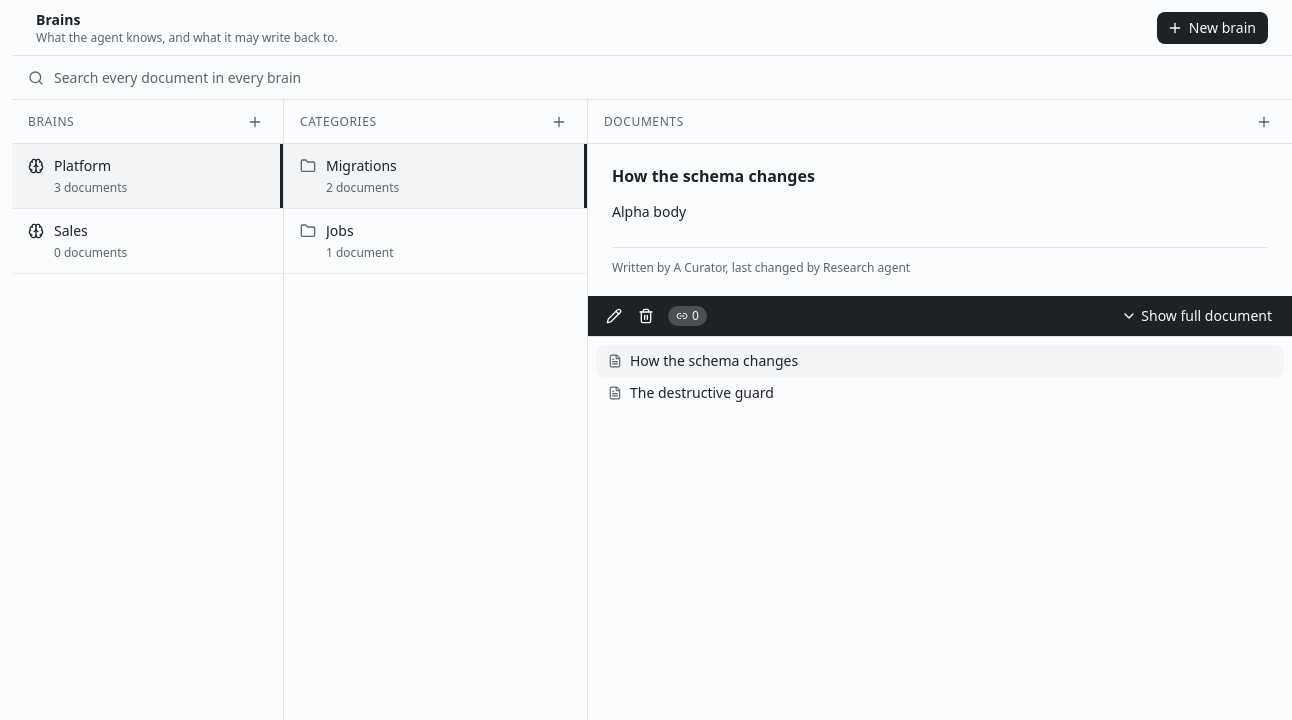
the brains screen › puts the whole knowledge base back when the search is cleared
The width and height of the screenshot is (1292, 720).
expect the text "Alpha body" is shown: met, box x1=612 y1=202 x2=686 y2=221
Type "ownership" into the field with placeholder "Search every document in every brain" at {"x": 665, "y": 78}, box x1=54 y1=56 x2=1276 y2=99
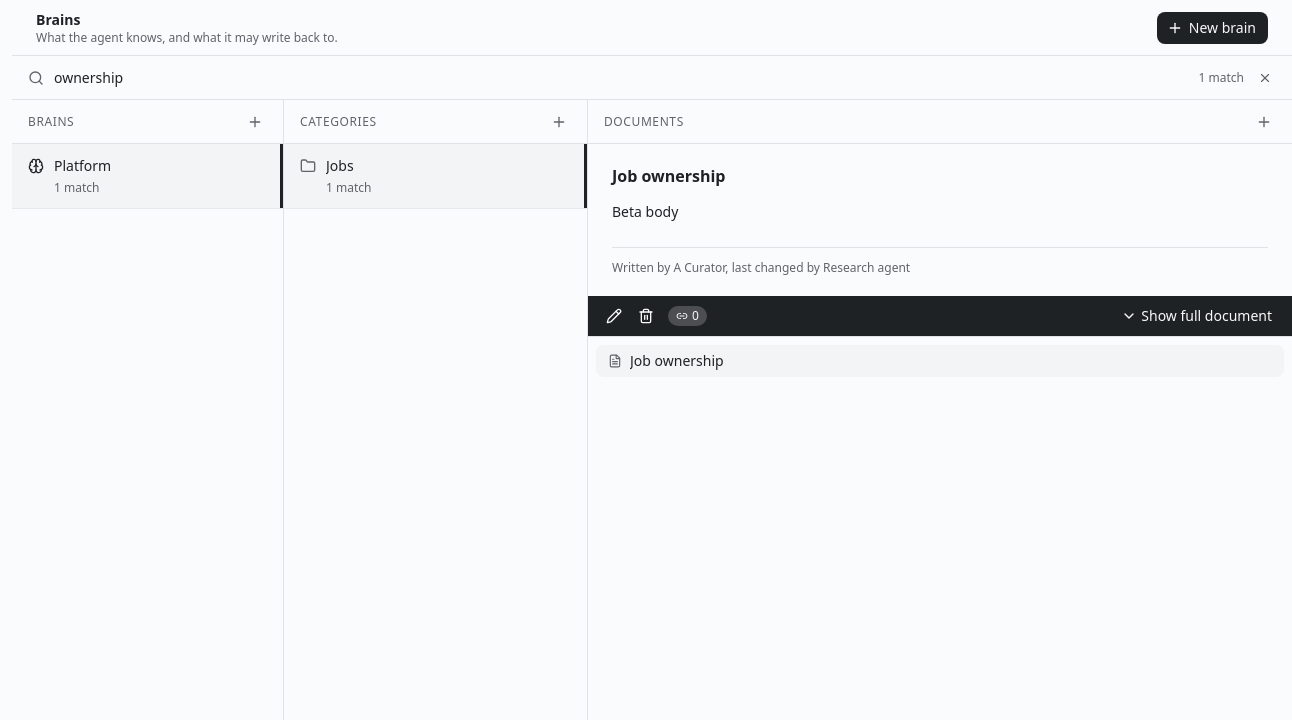
expect the text "Beta body" is shown: met, box x1=612 y1=202 x2=678 y2=221
expect the button "Sales" is gone: met
Click the button named "Clear search" at {"x": 1265, "y": 78}, box x1=1254 y1=66 x2=1276 y2=88
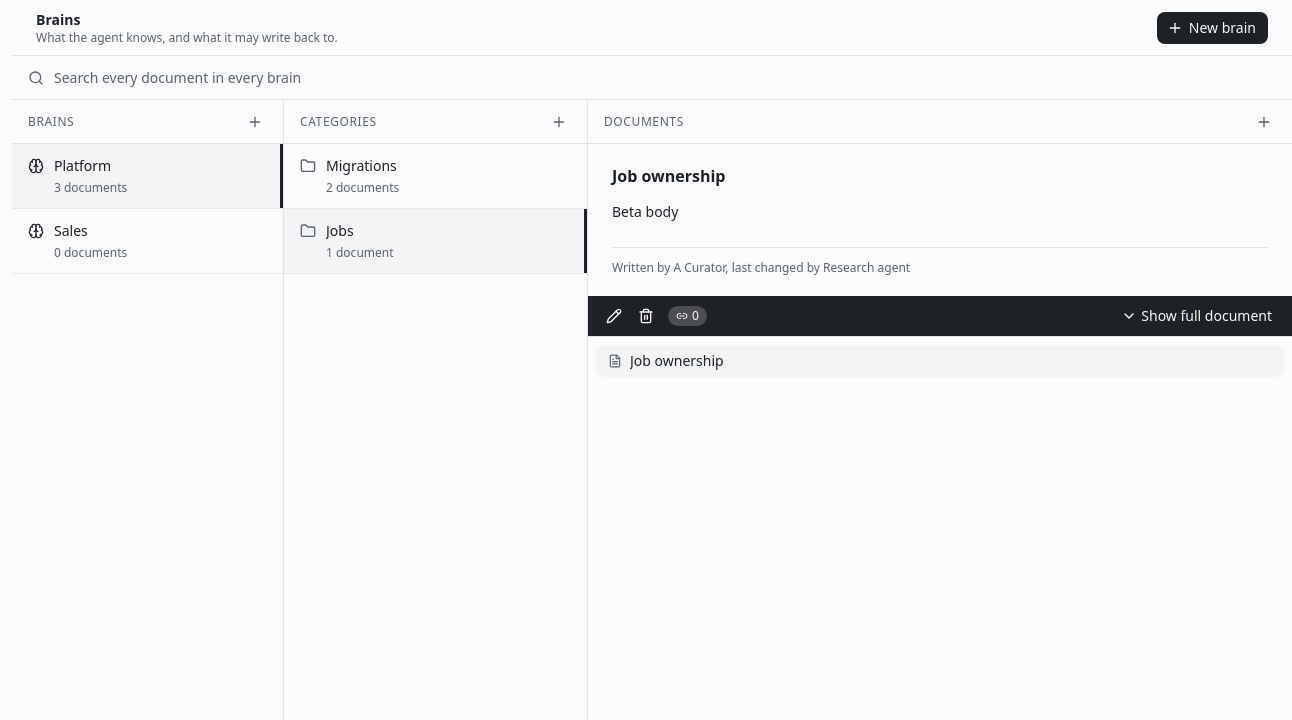
expect the text "Sales" is shown: met, box x1=54 y1=221 x2=88 y2=240
expect the text "Migrations" is shown: met, box x1=326 y1=156 x2=397 y2=175
expect the text "3 documents" is shown: met, box x1=54 y1=179 x2=127 y2=196
